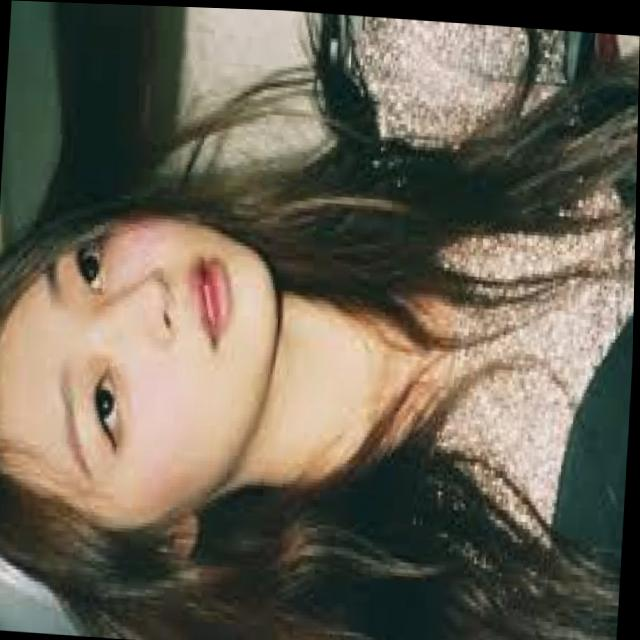face: (0, 186, 283, 606)
